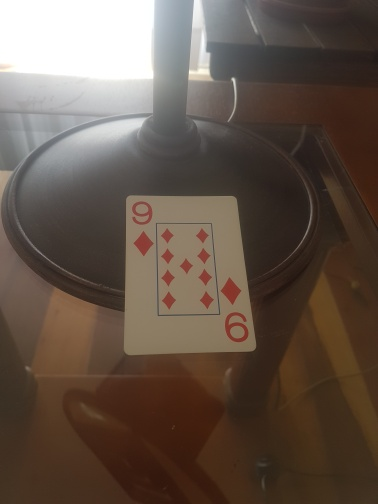nine: (124, 196, 258, 355)
